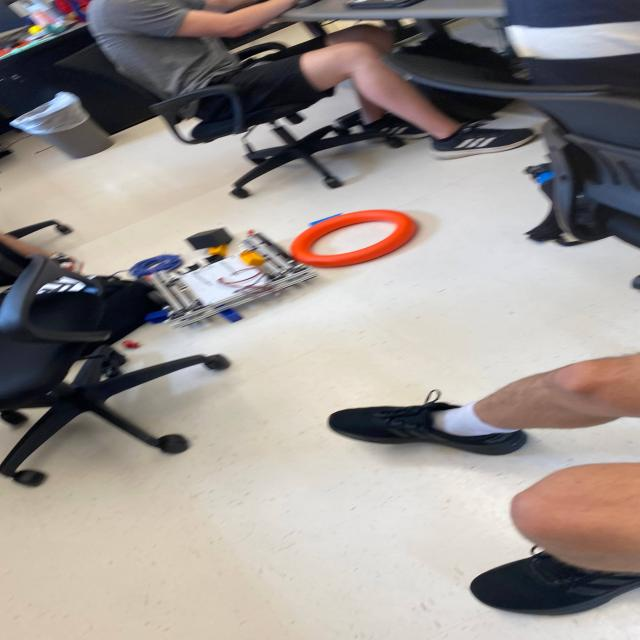blue-specimen: (144, 308, 168, 324), (219, 308, 242, 323)
yellow-specimen: (239, 250, 266, 267), (207, 244, 227, 257)
